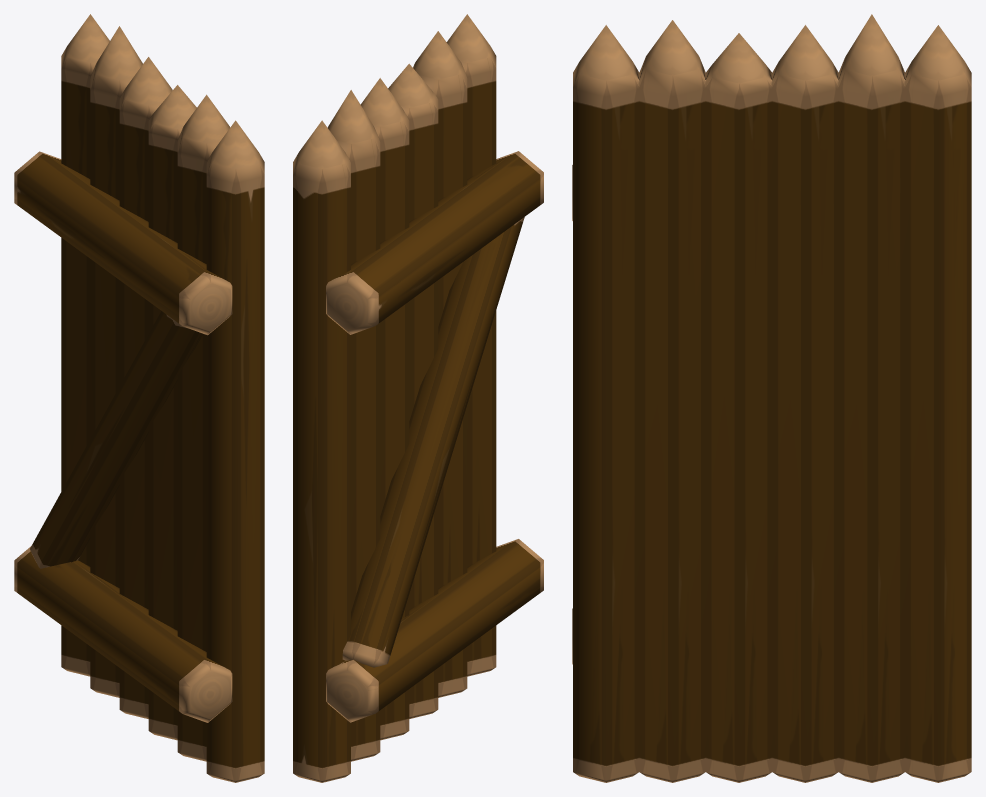
File: mod_building_palisade_R.fbx
3 renders of one model, left to right at view 1: azimuth 30°, elevation 25°; view 2: azimuth 150°, elevation 25°; view 3: azimuth 270°, elevation 25°, orthographic. The views are drawn at different scales.
Visible parts, largest first — view 1: mod_building_palisade_gate_r1; view 2: mod_building_palisade_gate_r1; view 3: mod_building_palisade_gate_r1.
Part boxes in pixels (<box>): mod_building_palisade_gate_r1: <box>14,14,264,782</box>; mod_building_palisade_gate_r1: <box>293,14,543,782</box>; mod_building_palisade_gate_r1: <box>572,14,971,782</box>.
Size of the model in its own units: 62.28 by 419 by 201.
